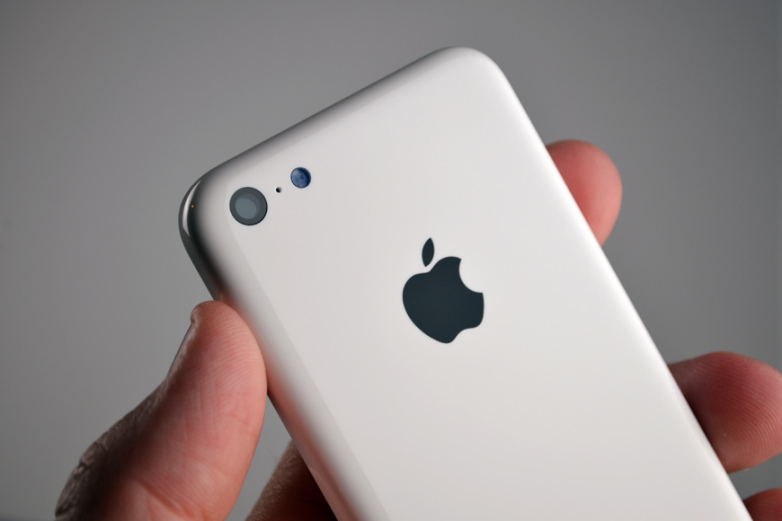apple: (397, 228, 490, 345)
